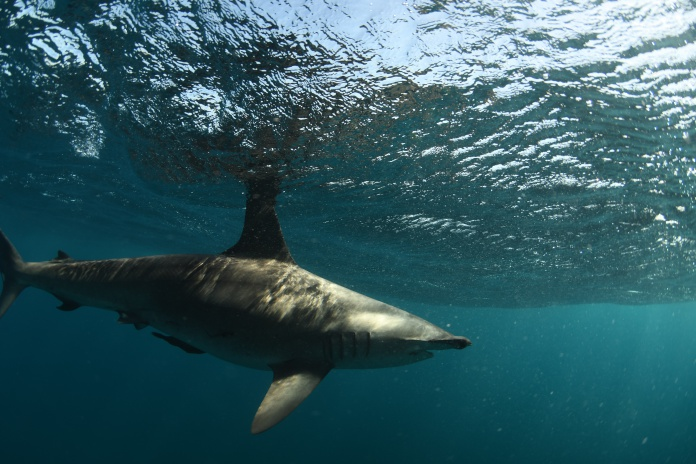Hammer: (1, 160, 516, 446), (28, 286, 386, 436)
